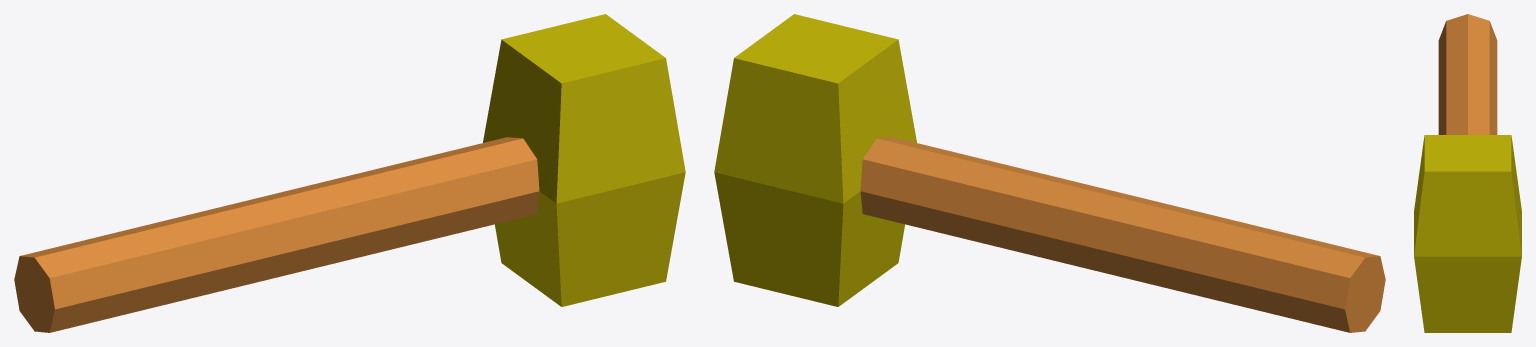
The model's file is Hammer_01.fbx.
The picture shows the model from 3 angles, left to right: view 1: azimuth 30°, elevation 25°; view 2: azimuth 150°, elevation 25°; view 3: azimuth 270°, elevation 25°; orthographic projection. The views are drawn at different scales.
Visible parts, largest first — view 1: Hammer_01; view 2: Hammer_01; view 3: Hammer_01.
Part boxes in pixels (x1,y1,x2,y2): Hammer_01: [14, 14, 685, 332]; Hammer_01: [714, 14, 1385, 332]; Hammer_01: [1414, 14, 1521, 332].
Size of the model in its own units: 55.5 by 19.32 by 11.72.
